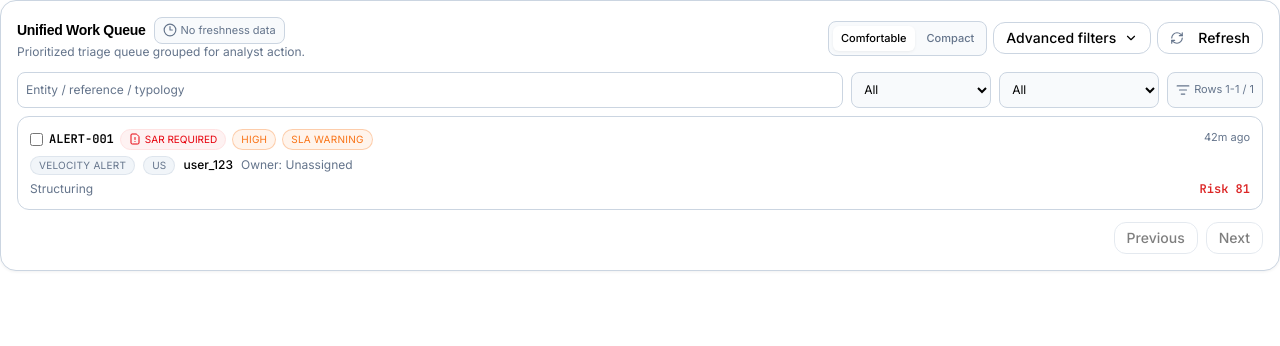
UnifiedWorkQueue › shows bulk action toolbar only when rows are selected
The width and height of the screenshot is (1280, 346).
expect the text "1 selected" is not shown: met
Click the checkbox named "Select ALERT-001" at [36, 139], box [30,132,43,146]
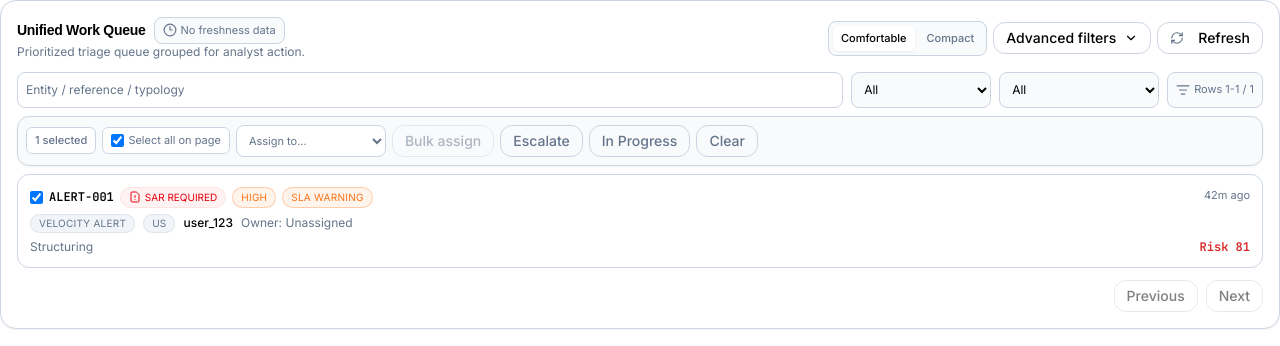
expect the text "1 selected" is shown: met, box [26,127,96,154]
expect the button "Bulk assign" is shown: met, box [392,124,494,156]
expect the button "Escalate" is shown: met, box [500,124,583,156]
